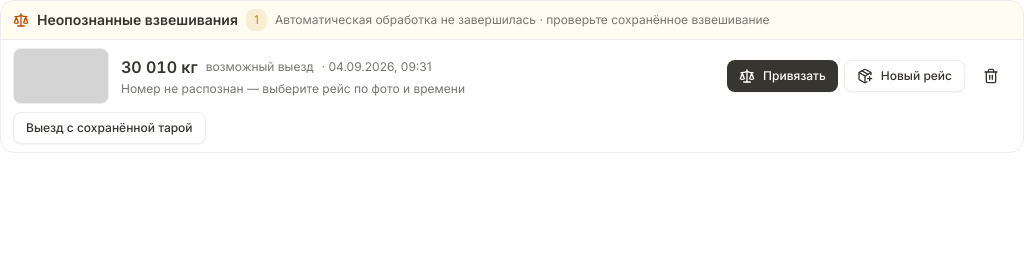
Test case: UnassignedWeighingsPanel › shows the parked weight, its reason, its photo link and only waiting passages as targets
Check: the text "Неопознанные взвешивания" is shown, box [37,10,238,30]
Check: the text "30 010 кг" is shown, box [121,55,198,79]
Click the button "Привязать" at (782, 76), box [727,60,838,92]
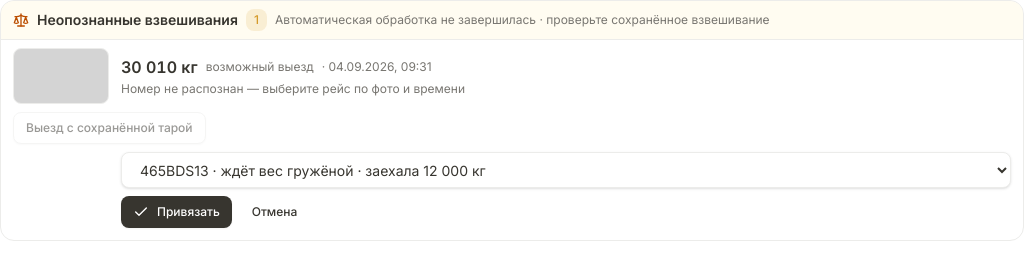
Check: the dropdown named "Рейс для привязки" shows "465BDS13 · ждёт вес гружёной · заехала 12 000 кг", box [121,152,1011,188]
